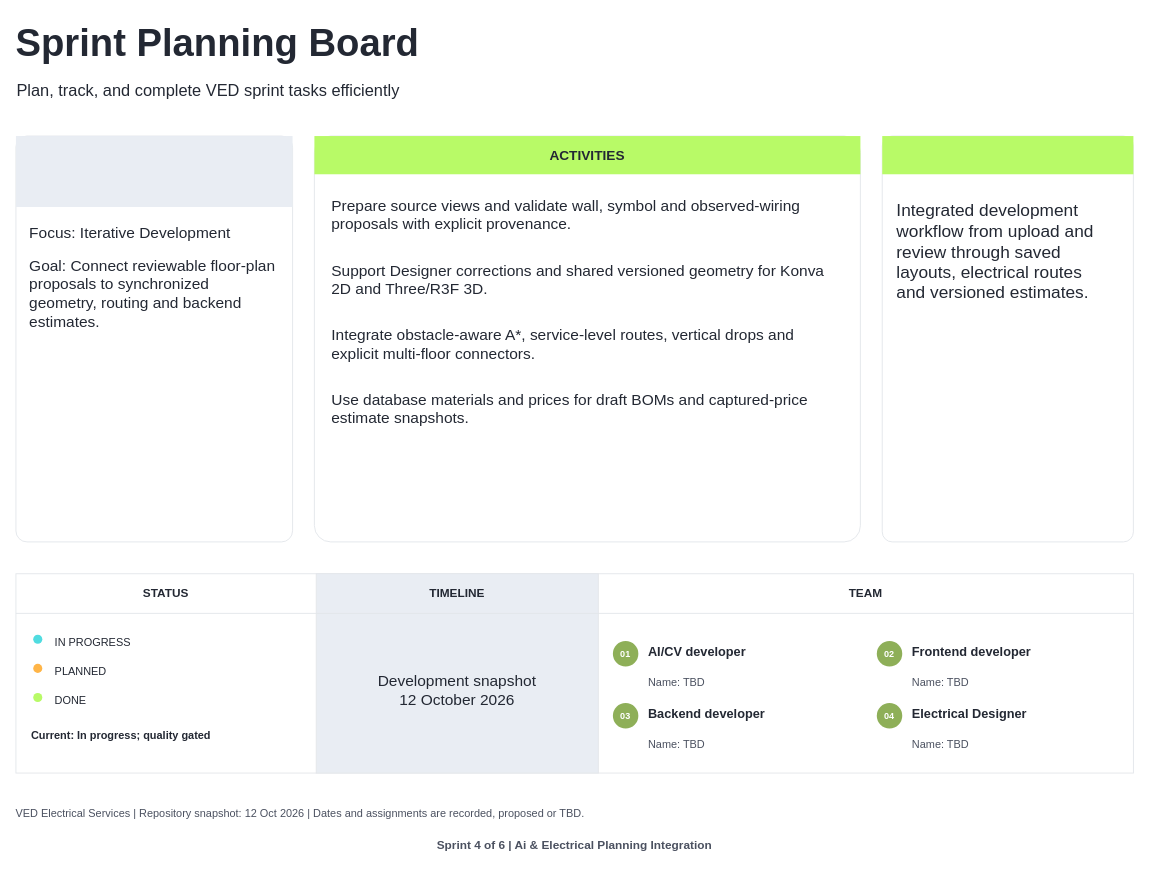
Image size: 1149x873. Some labels were removed from this diagram. Here are the shapes that lost their labels. From the top down, the centre of each, then its label:
the point at 153,171: SPRINT 4: AI & ELECTRICAL PLANNING INTEGRATION
the point at 1007,155: MILESTONE DELIVERABLE
